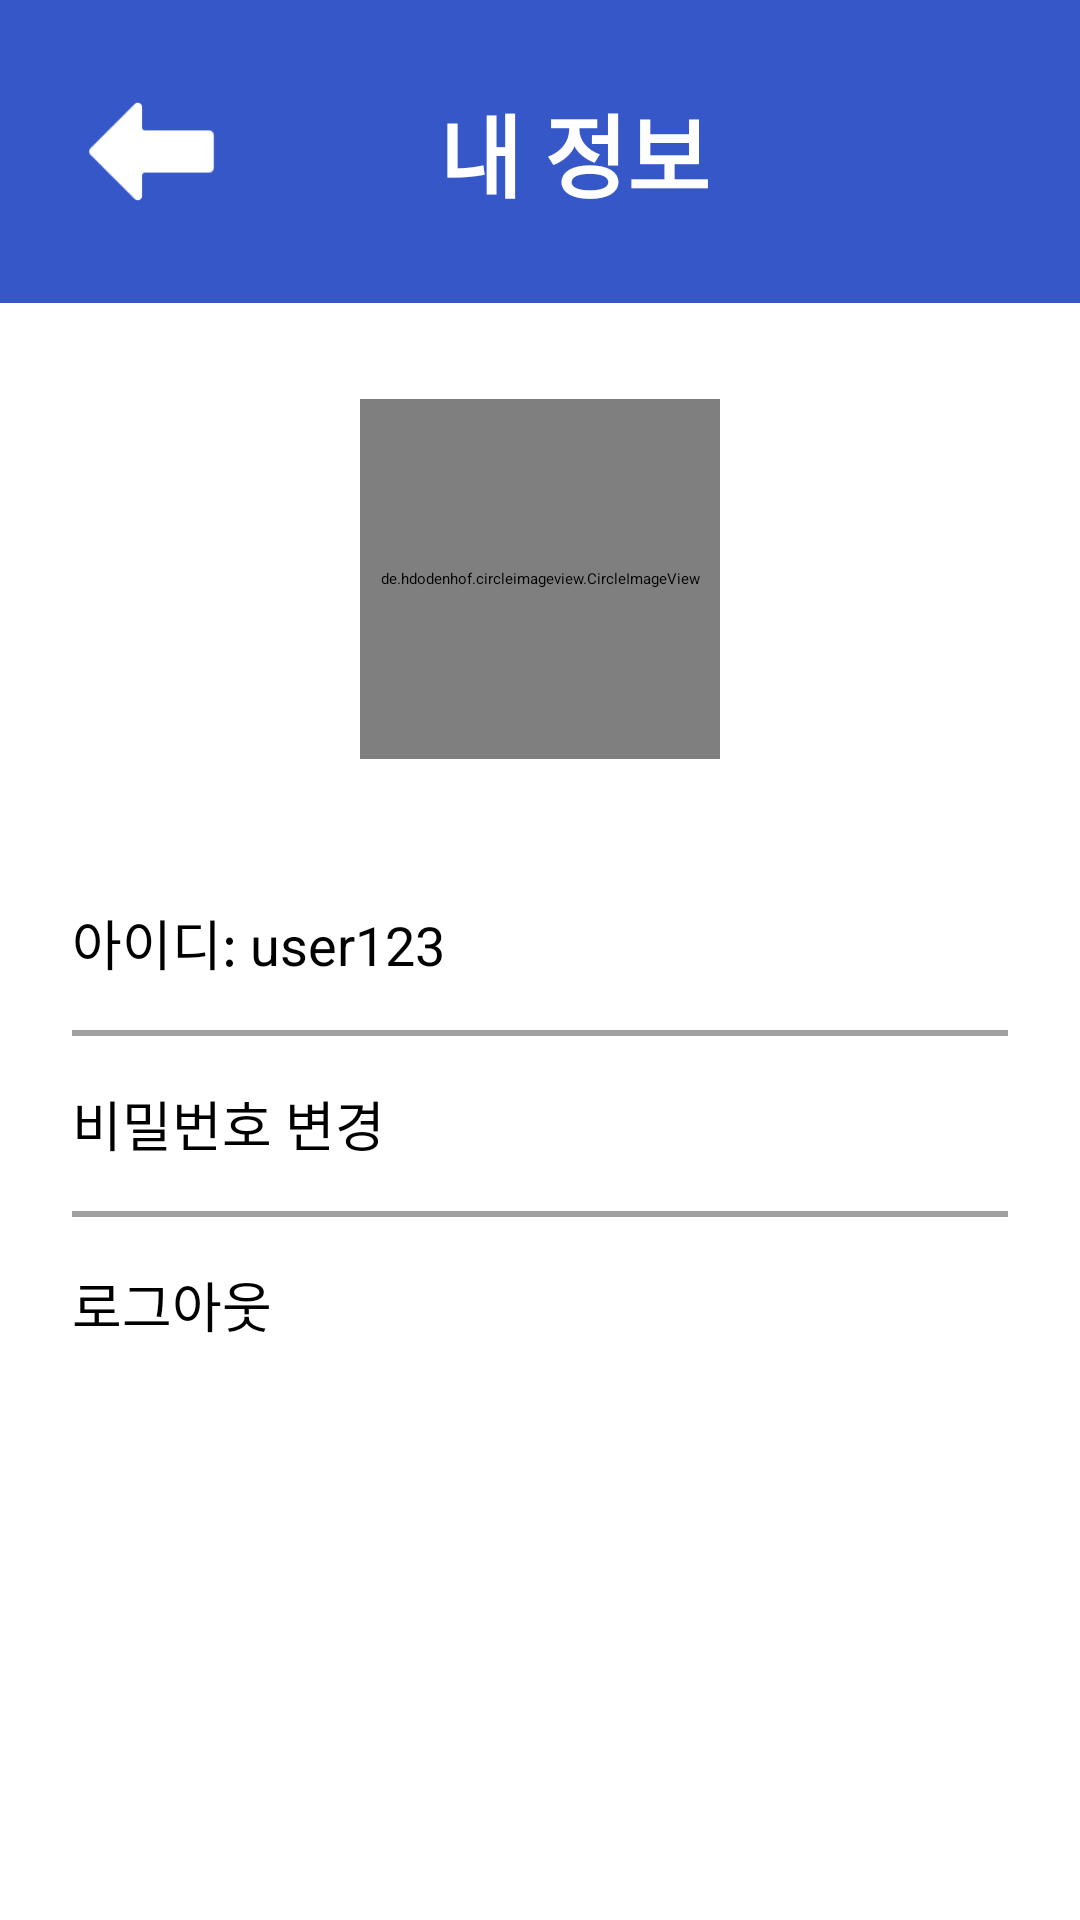

Icons on this 1080px×1920px Android screen, each with its box as (left=x1, top=y1, right=x2, bottom=y2):
left arrow: (left=89, top=102, right=214, bottom=201)
